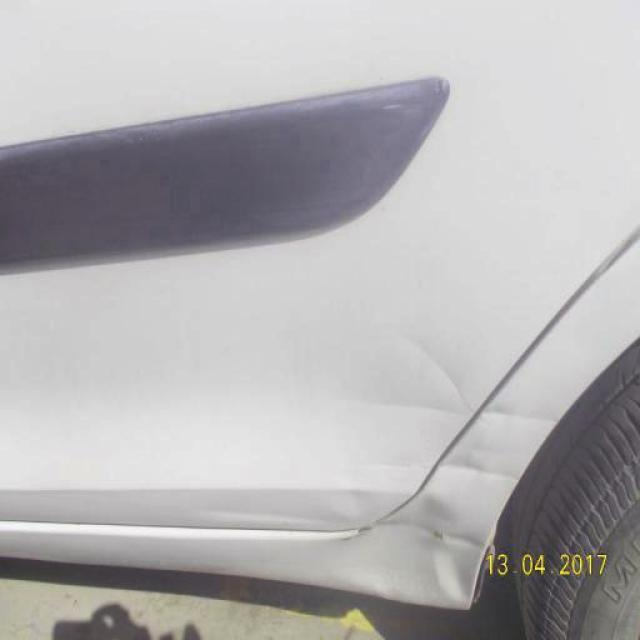car damage: (201, 480, 486, 603), (372, 438, 523, 490), (351, 395, 560, 431), (408, 333, 472, 411)
